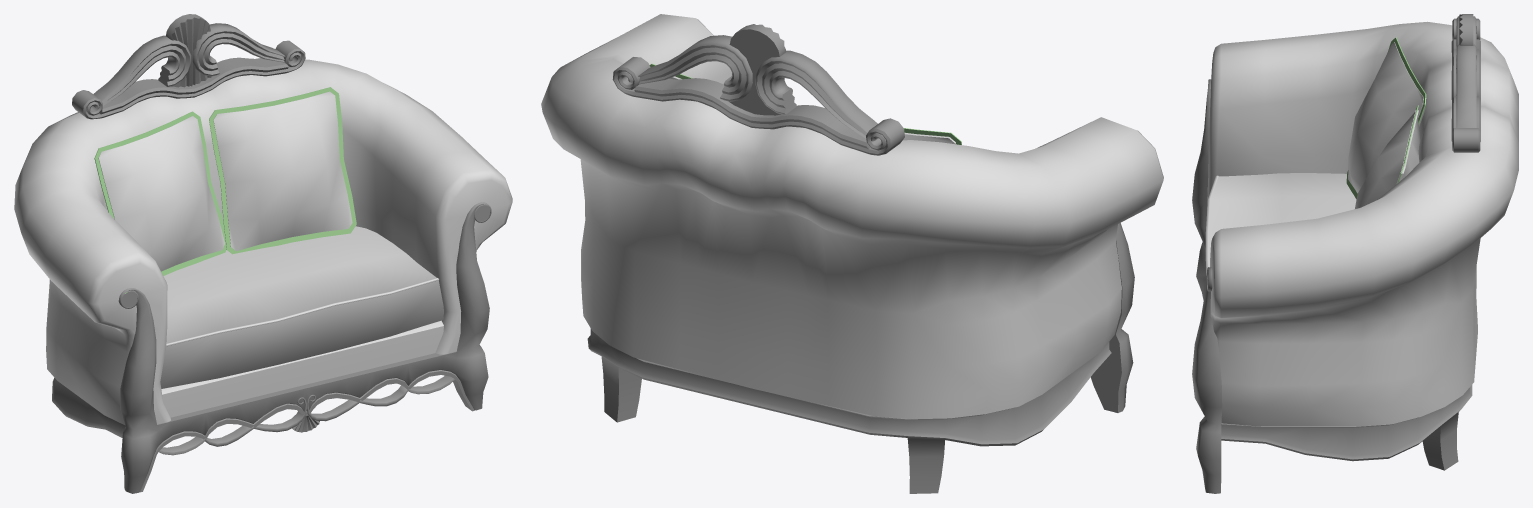
File: JMSF803.FBX
3 views of the same model, side by side, from view 1: azimuth 30°, elevation 25°; view 2: azimuth 150°, elevation 25°; view 3: azimuth 270°, elevation 25° (orthographic). The views are drawn at different scales.
Visible parts, largest first — view 1: JMSF803; view 2: JMSF803; view 3: JMSF803.
Part boxes in pixels (left/top/right/bottom): JMSF803: left=14, top=14, right=512, bottom=493; JMSF803: left=541, top=14, right=1163, bottom=493; JMSF803: left=1192, top=14, right=1518, bottom=493.
Bounding box in the file's own units: 170 × 103 × 133.
